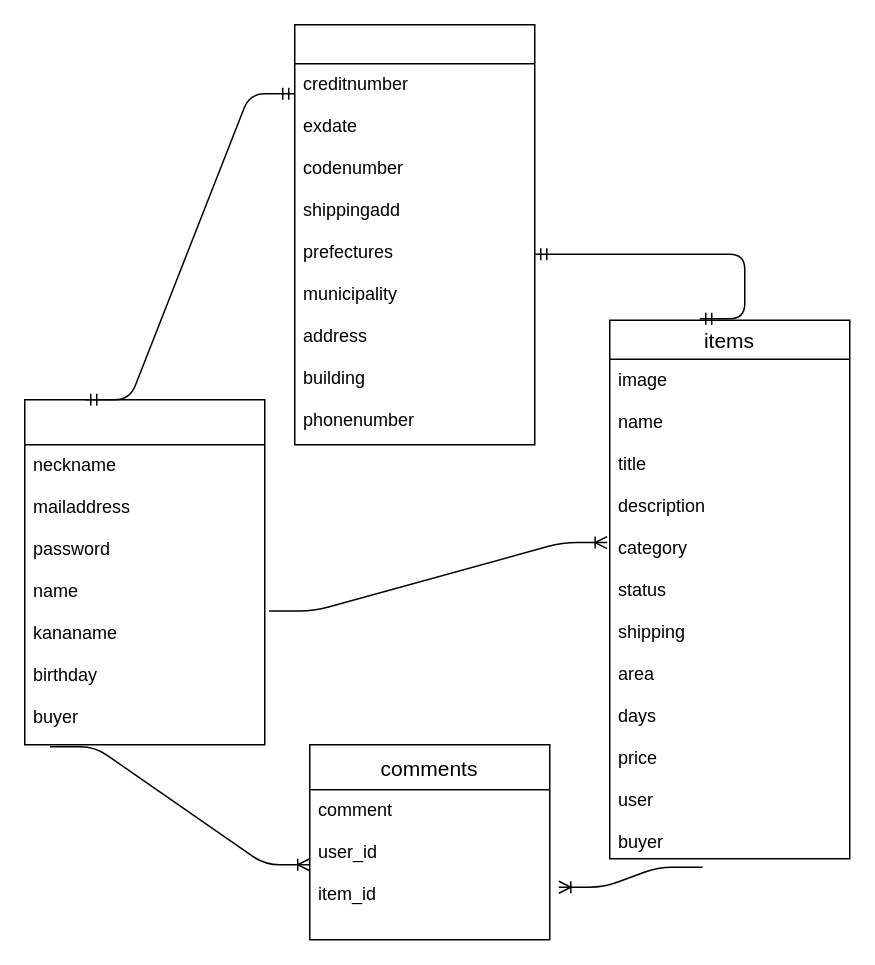
This 875x965 diagram has some shape labels left out. Here are the shapes that lost their labels. From the top down, the box of each, then its label:
(293, 23, 535, 445): buyers
(23, 398, 265, 745): users
